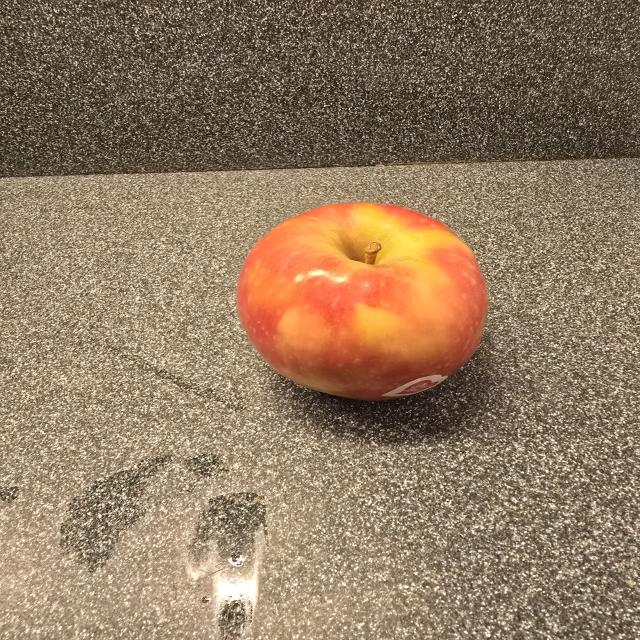Apple: (237, 203, 488, 400)
